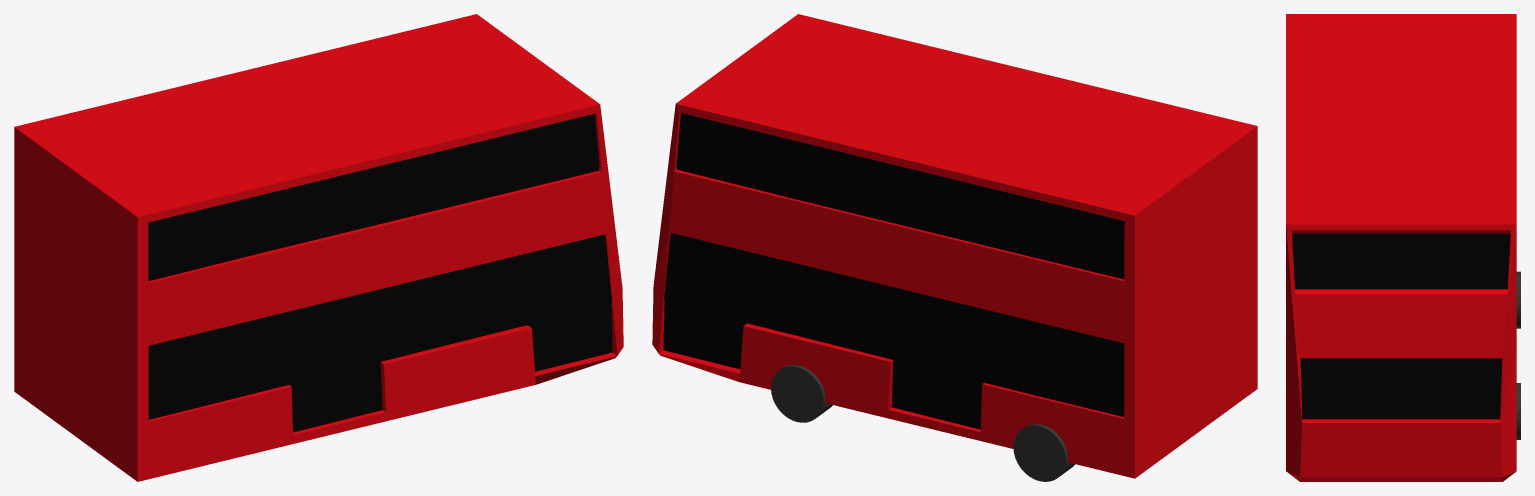
File: bus.glb
3 renders of one model, left to right at view 1: azimuth 30°, elevation 25°; view 2: azimuth 150°, elevation 25°; view 3: azimuth 270°, elevation 25°, orthographic. The views are drawn at different scales.
Visible parts, largest first — view 1: Cube, Cube.001; view 2: Cube, Cube.001, Cylinder.002, Cylinder; view 3: Cube, Cube.001, Cylinder.002, Cylinder.
Part boxes in pixels (x1,y1,x2,y2): Cube: [14, 14, 623, 481]; Cube.001: [148, 113, 612, 432]; Cube: [652, 14, 1257, 478]; Cube.001: [663, 113, 1124, 429]; Cylinder.002: [1013, 424, 1075, 481]; Cylinder: [771, 365, 832, 422]; Cube: [1286, 14, 1516, 481]; Cube.001: [1292, 233, 1510, 419]; Cylinder.002: [1516, 271, 1520, 328]; Cylinder: [1516, 383, 1520, 439].
Size of the model in its own units: 3.9 by 2.18 by 1.72.
